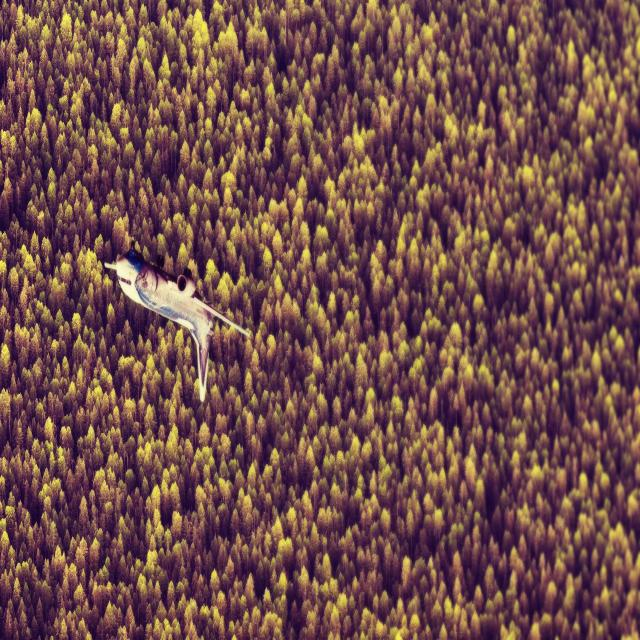airplane: (104, 247, 252, 403)
